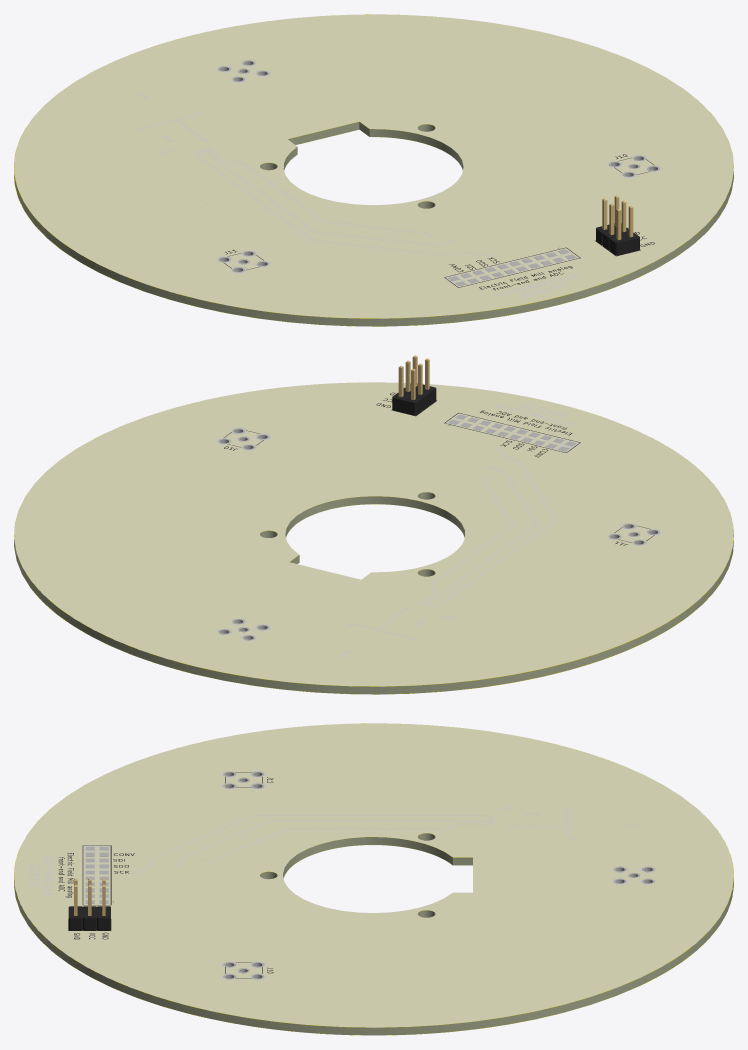
File: USTEFMADC01.glb
3 views of the same model, one above another, from view 1: azimuth 30°, elevation 25°; view 2: azimuth 150°, elevation 25°; view 3: azimuth 270°, elevation 25° (orthographic).
Visible parts, largest first — view 1: =>[0:1:1:15], =>[0:1:1:10], =>[0:1:1:17], J1, =>[0:1:1:11], =>[0:1:1:13]; view 2: =>[0:1:1:15], =>[0:1:1:10], =>[0:1:1:17], J1, =>[0:1:1:11], =>[0:1:1:13]; view 3: =>[0:1:1:15], =>[0:1:1:10], =>[0:1:1:17], =>[0:1:1:11], J1, =>[0:1:1:13].
Part boxes in pixels (x1=…): =>[0:1:1:15]: x1=14, y1=14, x2=733, y2=318; =>[0:1:1:10]: x1=14, y1=14, x2=733, y2=326; =>[0:1:1:17]: x1=14, y1=60, x2=733, y2=326; J1: x1=596, y1=195, x2=639, y2=255; =>[0:1:1:11]: x1=218, y1=60, x2=659, y2=286; =>[0:1:1:13]: x1=223, y1=154, x2=654, y2=290; =>[0:1:1:15]: x1=14, y1=382, x2=733, y2=686; =>[0:1:1:10]: x1=14, y1=382, x2=733, y2=694; =>[0:1:1:17]: x1=14, y1=404, x2=733, y2=694; J1: x1=392, y1=355, x2=436, y2=415; =>[0:1:1:11]: x1=218, y1=414, x2=659, y2=640; =>[0:1:1:13]: x1=224, y1=392, x2=654, y2=545; =>[0:1:1:15]: x1=14, y1=723, x2=733, y2=1027; =>[0:1:1:10]: x1=14, y1=723, x2=733, y2=1035; =>[0:1:1:17]: x1=14, y1=771, x2=733, y2=1035; =>[0:1:1:11]: x1=85, y1=771, x2=654, y2=979; J1: x1=68, y1=878, x2=110, y2=930; =>[0:1:1:13]: x1=58, y1=772, x2=273, y2=978.
Bounding box in the file's own units: 0.13 × 0.0124 × 0.13.
